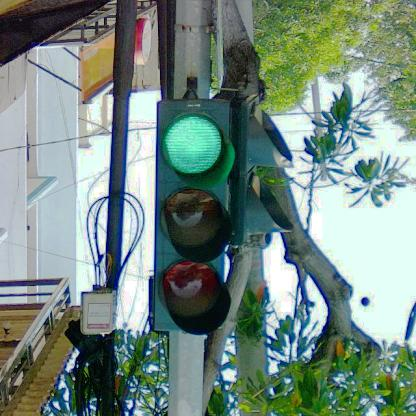Traffic Light -Green-: (150, 98, 235, 334)
